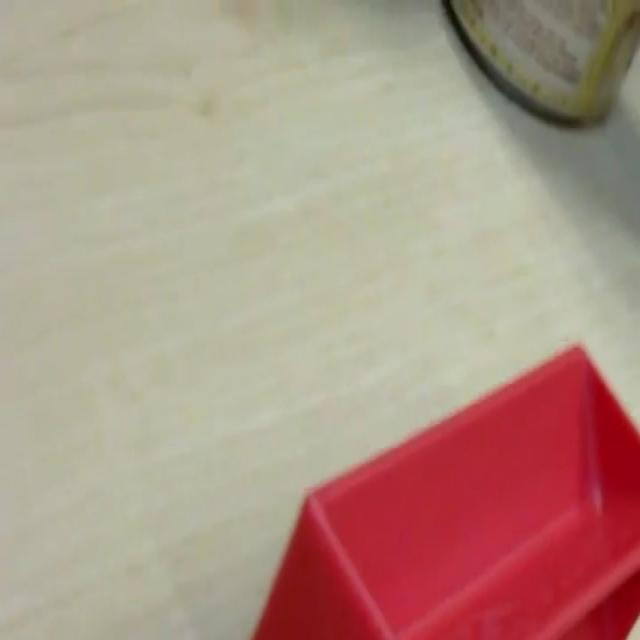red_block: (250, 339, 638, 637)
